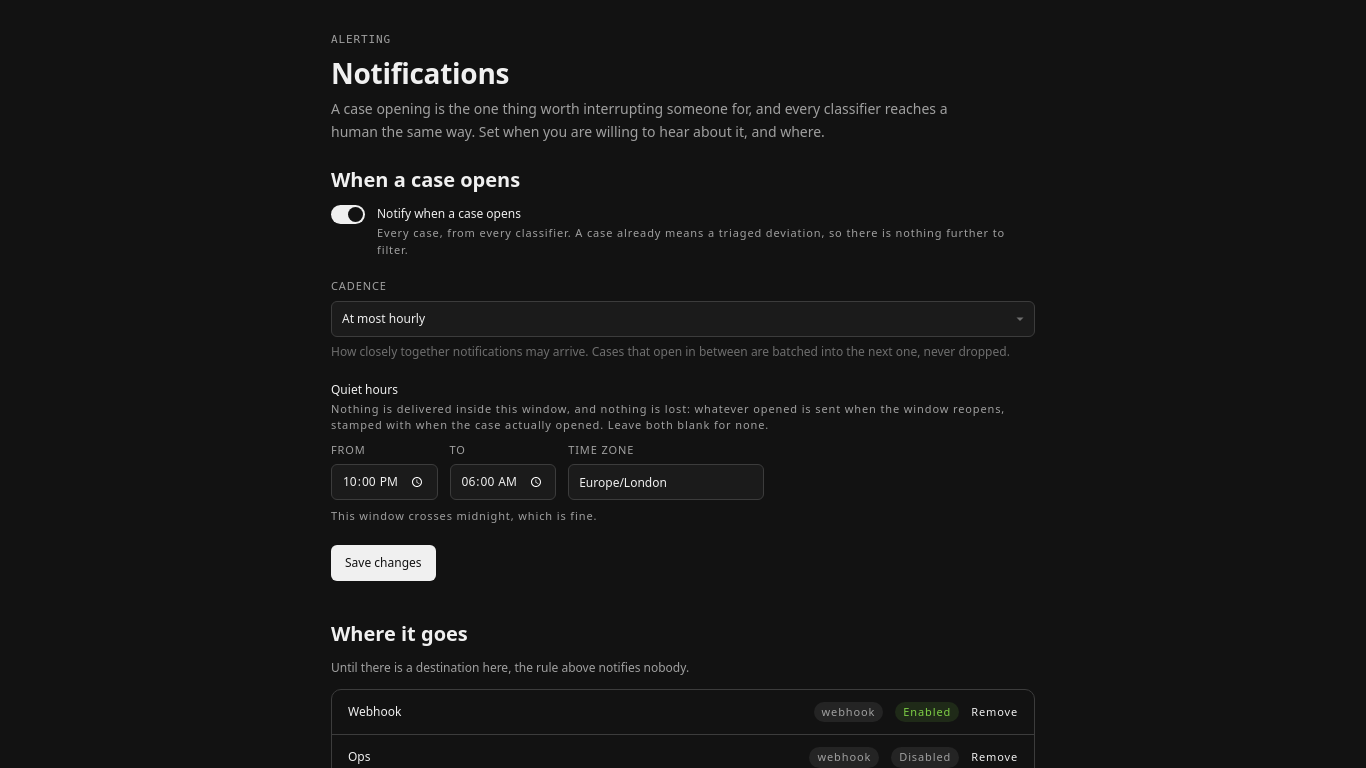
the delivery channels › lists each channel and removes the one asked for
Expected: the text "Ops" is shown, [348,748,370,765]
Expected: the text "Disabled" is shown, [891,747,959,767]
Click the button "Remove" next to "Disabled".
click(995, 757)  # box [971,749,1018,766]
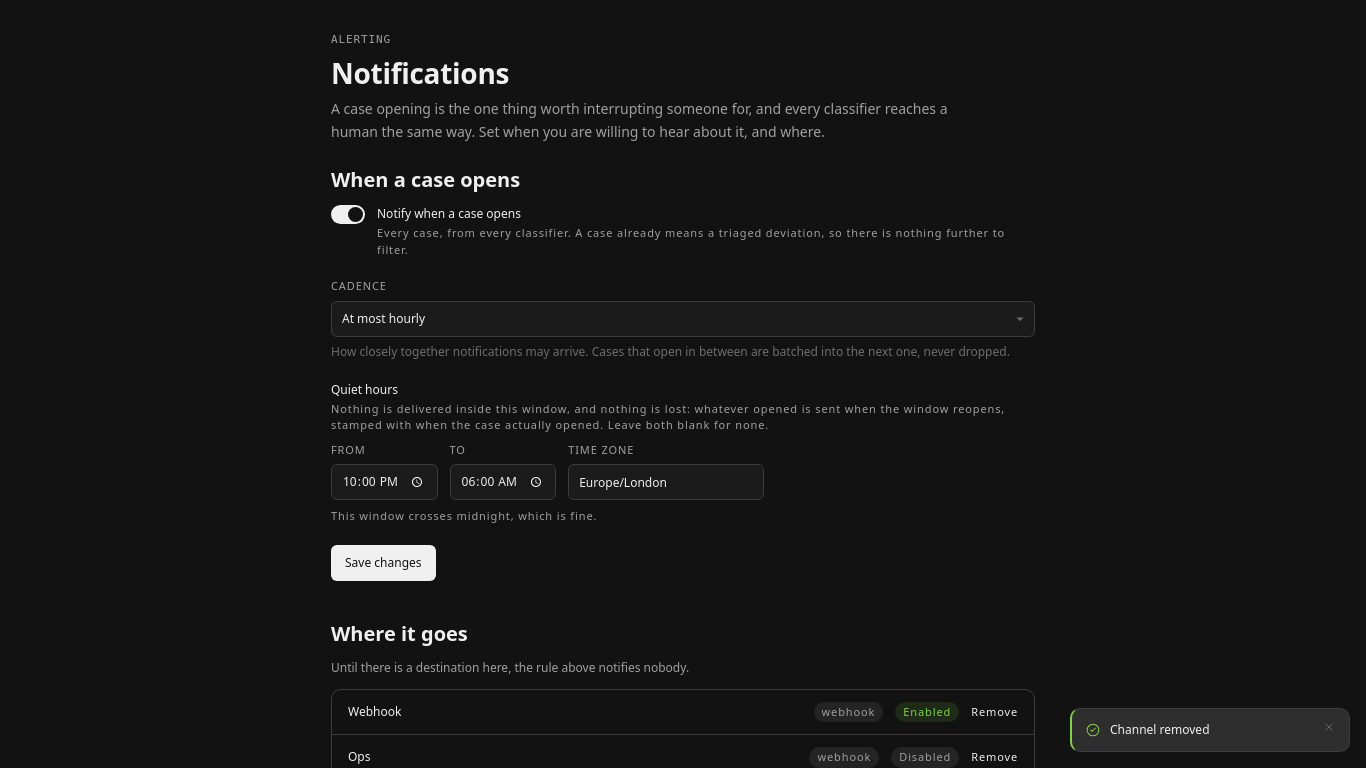
Now the text "Channel removed" is shown, box [1110,721,1210,738]
